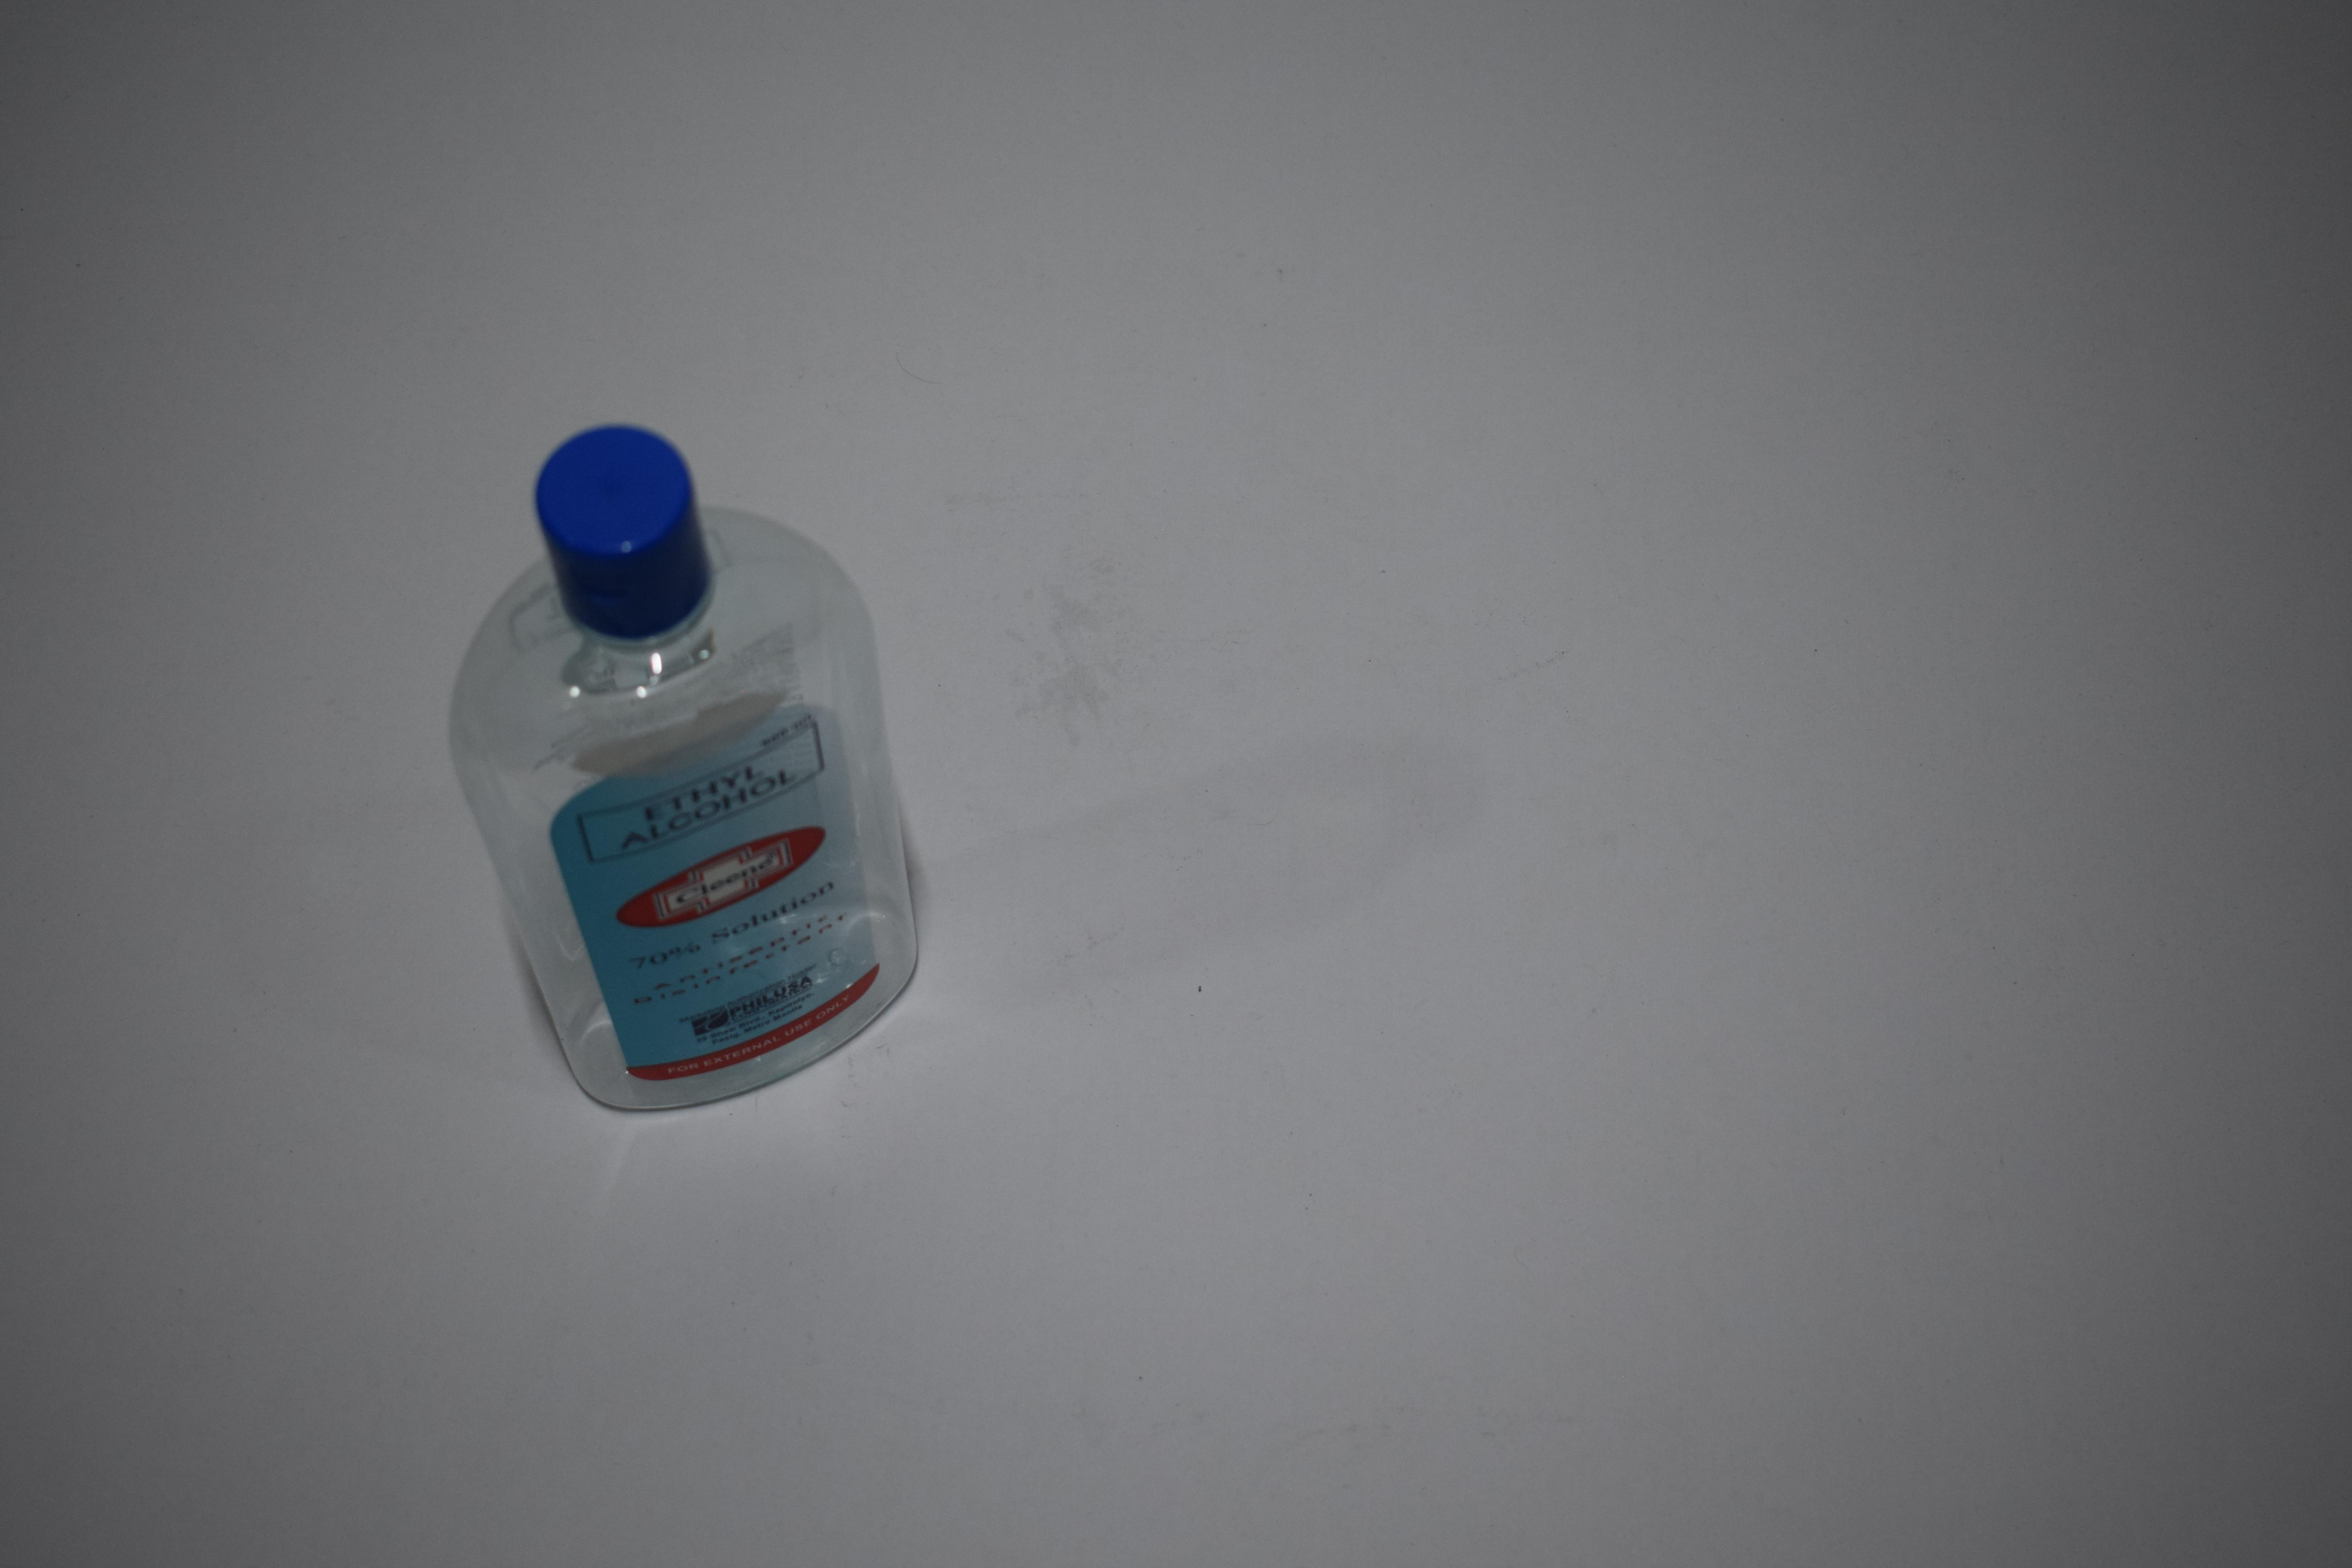bottle: (439, 455, 933, 1081)
